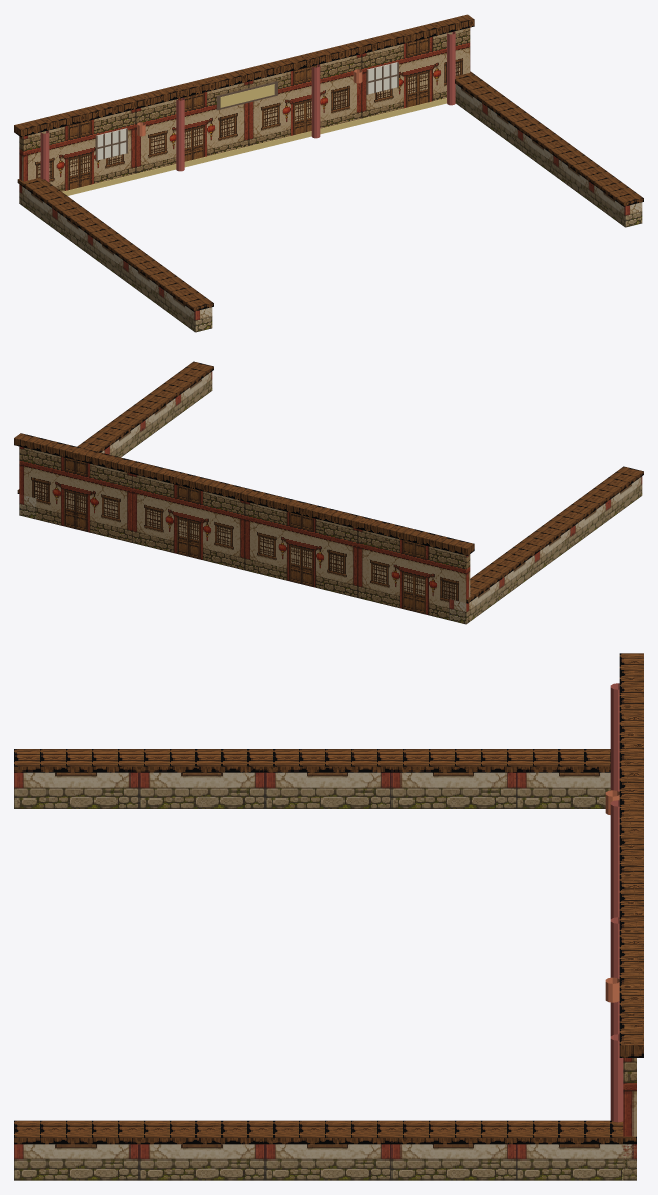
The model's file is rm_sutra.glb.
3 views of the same model, one above another, from view 1: azimuth 30°, elevation 25°; view 2: azimuth 150°, elevation 25°; view 3: azimuth 270°, elevation 25° (orthographic). The views are drawn at different scales.
Parts seen in each view (by area): view 1: wall, beam, side, trim, post, paper, lat; view 2: wall, beam, side; view 3: side, beam, post, wall.
Part boxes in pixels (x1,y1,x2,y2): wall: (19,27,470,204); beam: (14,14,643,311); side: (19,84,642,332); trim: (23,84,446,206); post: (40,31,455,182); paper: (96,62,397,160); lat: (95,62,398,160); wall: (19,446,470,623); beam: (14,361,643,603); side: (19,371,642,624); side: (14,772,636,1180); beam: (14,653,643,1144); post: (610,683,623,1122); wall: (623,1058,636,1180).
Bounding box in the file's own units: 268 × 44 × 182.
8 materials, 3 textured.
